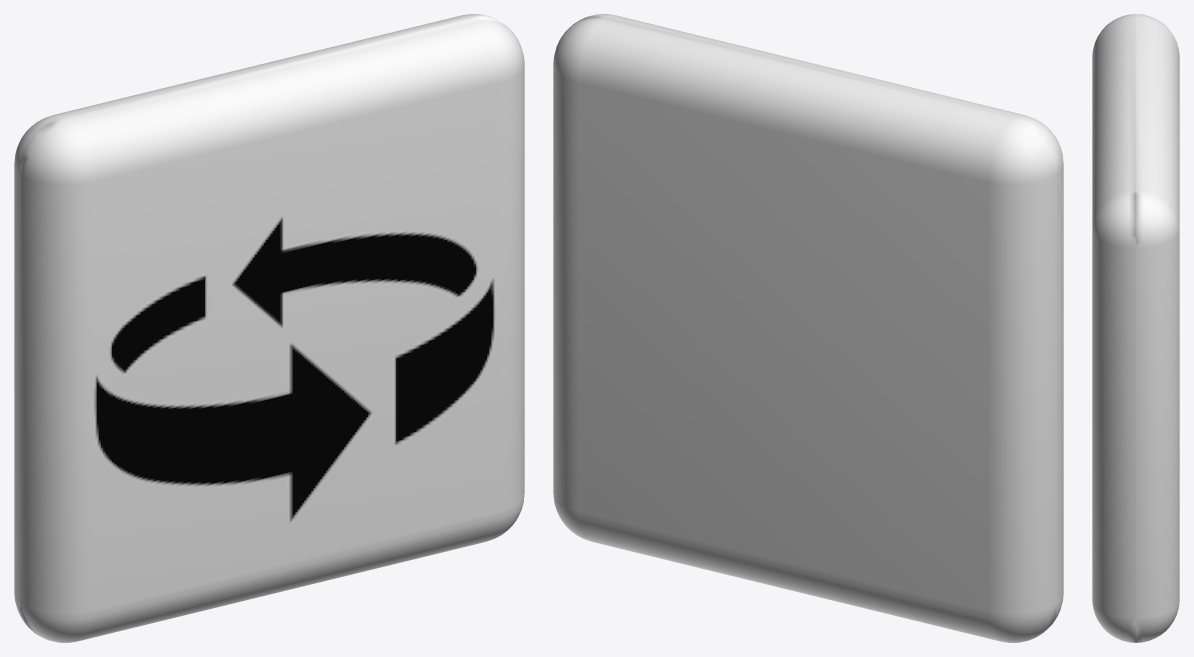
The model's file is rotate.glb.
3 views of the same model, side by side, from view 1: azimuth 30°, elevation 25°; view 2: azimuth 150°, elevation 25°; view 3: azimuth 270°, elevation 25° (orthographic). The views are drawn at different scales.
Parts seen in each view (by area): view 1: Cube; view 2: Cube; view 3: Cube.
Boxes of the visible parts, bbox=[...] form: Cube: bbox=[14, 14, 524, 642]; Cube: bbox=[553, 14, 1063, 642]; Cube: bbox=[1092, 14, 1179, 642].
Size of the model in its own units: 2 by 2 by 0.3535.
1 material, 1 textured.
